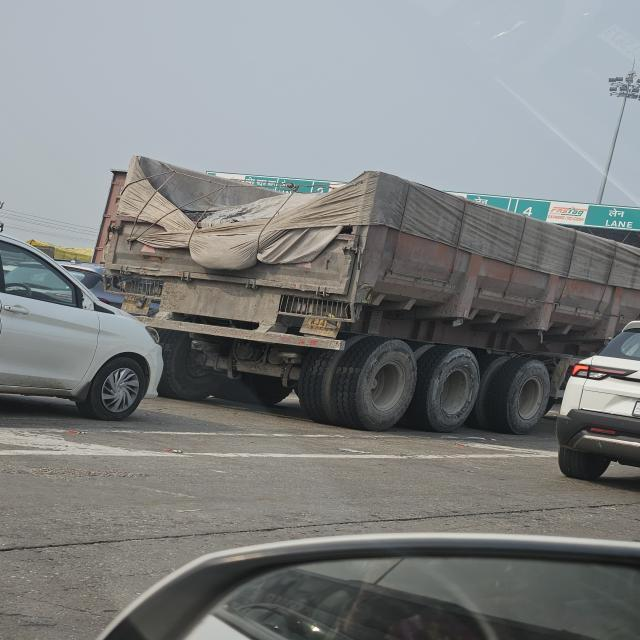covered: (104, 142, 570, 422)
